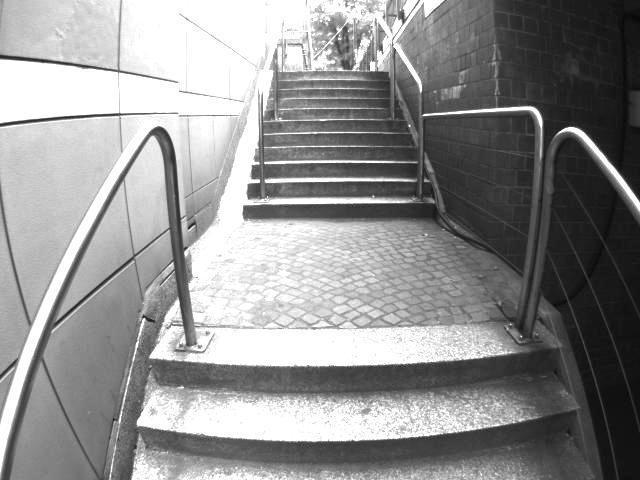Escaleras: (128, 314, 580, 479), (234, 66, 436, 221)
